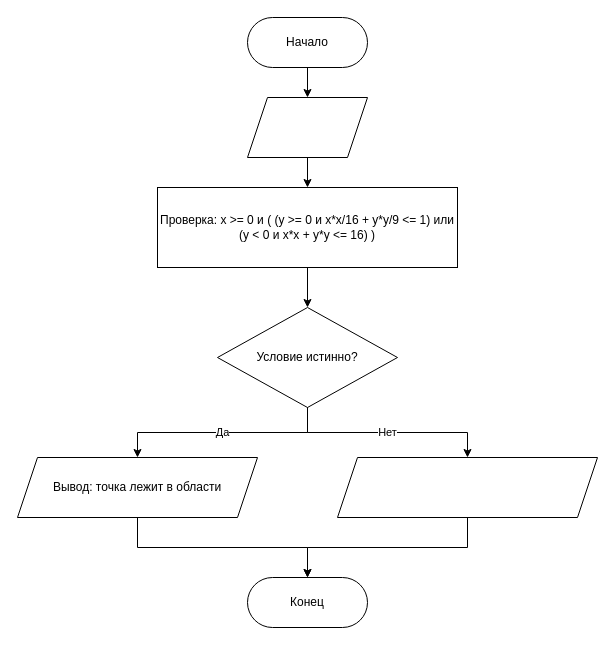
Image size: 615x645. Some labels were removed from this diagram. Here are the shapes that lost their labels. From the top down, the box of each, then its label:
(246, 96, 368, 158): Ввод x, y
(336, 456, 598, 518): Вывод: точка не лежит в области
